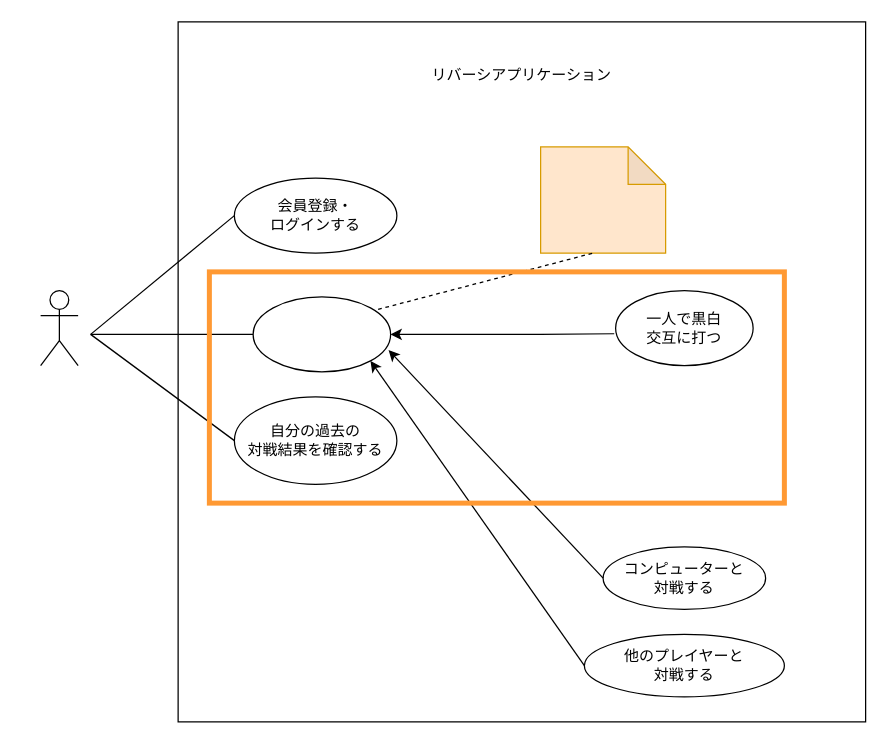
The diagram is 888 pixels wide and 744 high, and some of its shapes have lost their labels. Here are the shapes that lost their labels. From the top down, the centre of each, then its label:
point 602,199: ・対戦を開始する ・盤面を見る ・石を打つ ・勝敗を確認する
point 58,327: プレイヤー
point 321,334: 対戦する
